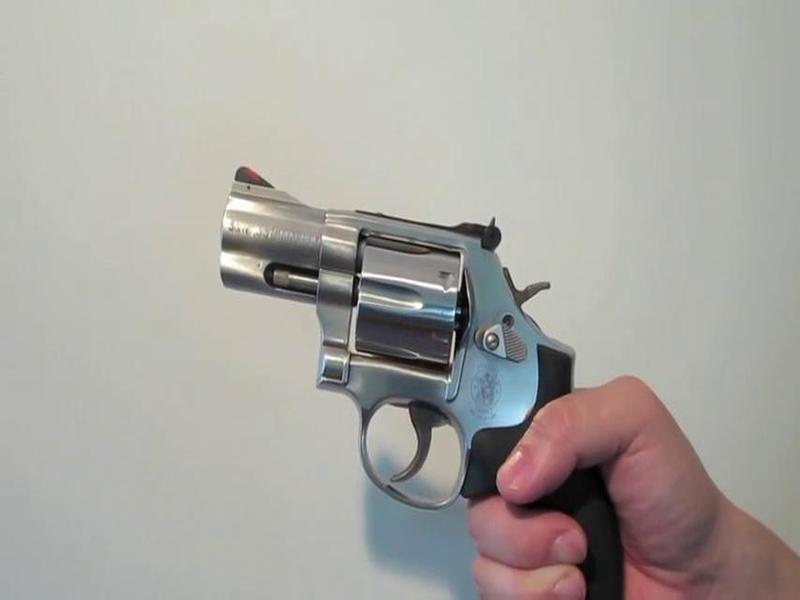Revolver: (177, 121, 592, 544)
